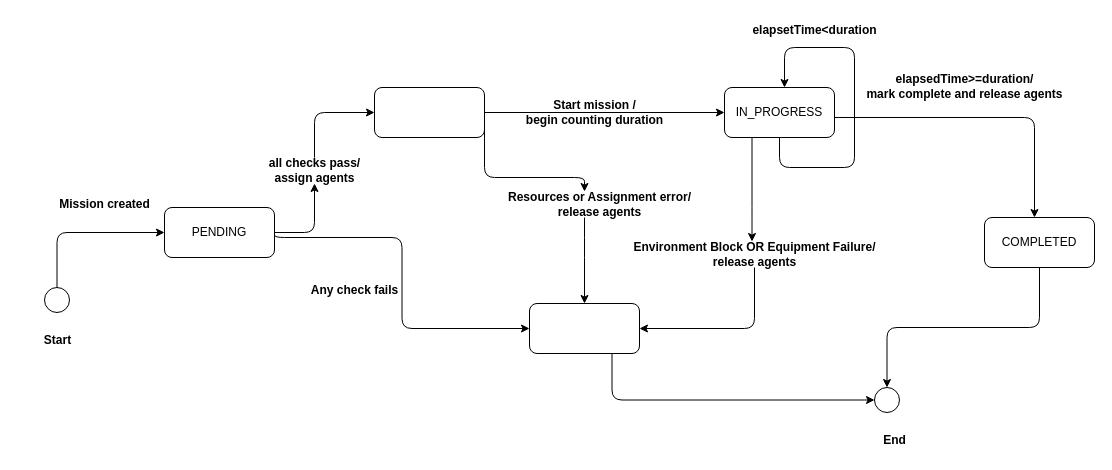
The diagram is 1112 pixels wide and 470 high, and some of its shapes have lost their labels. The shapes that lost their labels are listed below. From the top down, each one's box as (x1, y1, x2, y2) in pixels, then its label:
(374, 86, 484, 138): ASSIGNED
(528, 302, 640, 354): FAILED
